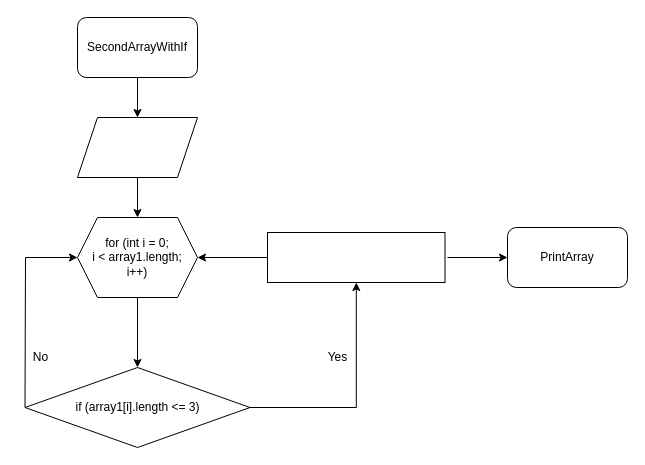
The diagram is 645 pixels wide and 465 high, and some of its shapes have lost their labels. Each missing label, with the box of its shape:
array2[count] = array1[i] count++;: (266, 232, 445, 282)
string[] array1 string array2 int count = 0: (76, 116, 198, 178)
